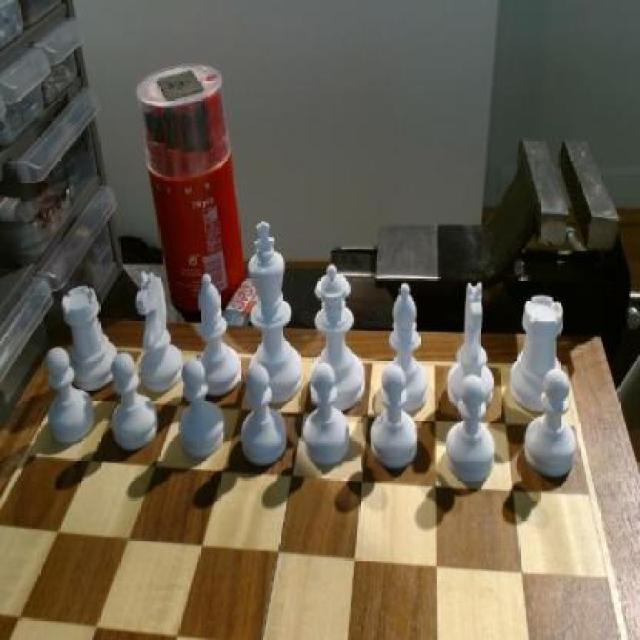black-rook: (382, 277, 432, 416), (191, 268, 242, 399)
white-bishop: (246, 223, 306, 404)
white-king: (445, 278, 499, 416), (130, 268, 188, 395)
white-knight: (524, 368, 578, 483), (45, 343, 100, 449), (300, 363, 355, 469), (445, 376, 497, 486), (371, 363, 422, 474), (238, 365, 288, 469), (108, 354, 160, 452), (180, 355, 226, 464)
white-pawn: (304, 260, 368, 411)
white-queen: (60, 281, 122, 394), (512, 291, 568, 415)
